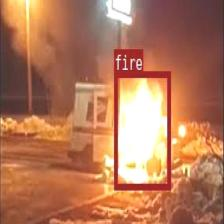fire: (114, 71, 170, 188)
